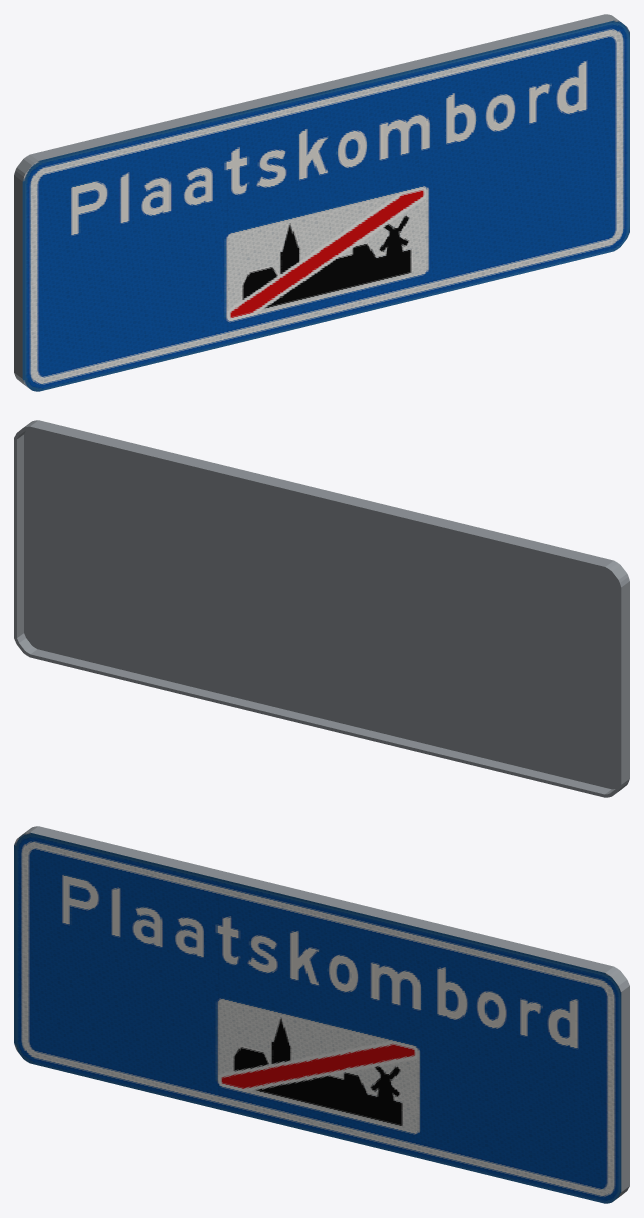
3 views of the same model, one above another, from view 1: azimuth 30°, elevation 25°; view 2: azimuth 150°, elevation 25°; view 3: azimuth 330°, elevation 25° (orthographic).
Visible parts, largest first — view 1: cat_7c3968e42ca0308e; view 2: cat_7c3968e42ca0308e; view 3: cat_7c3968e42ca0308e.
Part boxes in pixels (x1=…): cat_7c3968e42ca0308e: x1=14, y1=14, x2=629, y2=391; cat_7c3968e42ca0308e: x1=14, y1=420, x2=629, y2=797; cat_7c3968e42ca0308e: x1=14, y1=826, x2=629, y2=1203.
Bounding box in the file's own units: 0.6 × 0.015 × 0.2179.
Materials: 2 (1 with a texture image).
